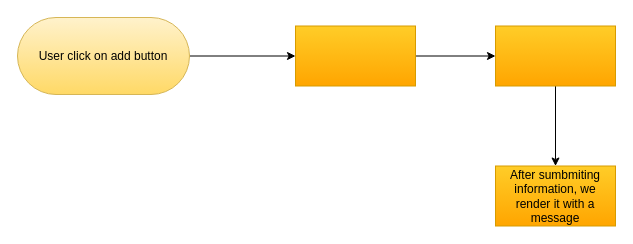
This 633x244 diagram has some shape labels left out. Here are the shapes that lost their labels. From the top down, the box of each, then its label:
(294, 25, 416, 86): Add complete order panel
(494, 25, 616, 86): User sumbit the order and a modal for user information opens
